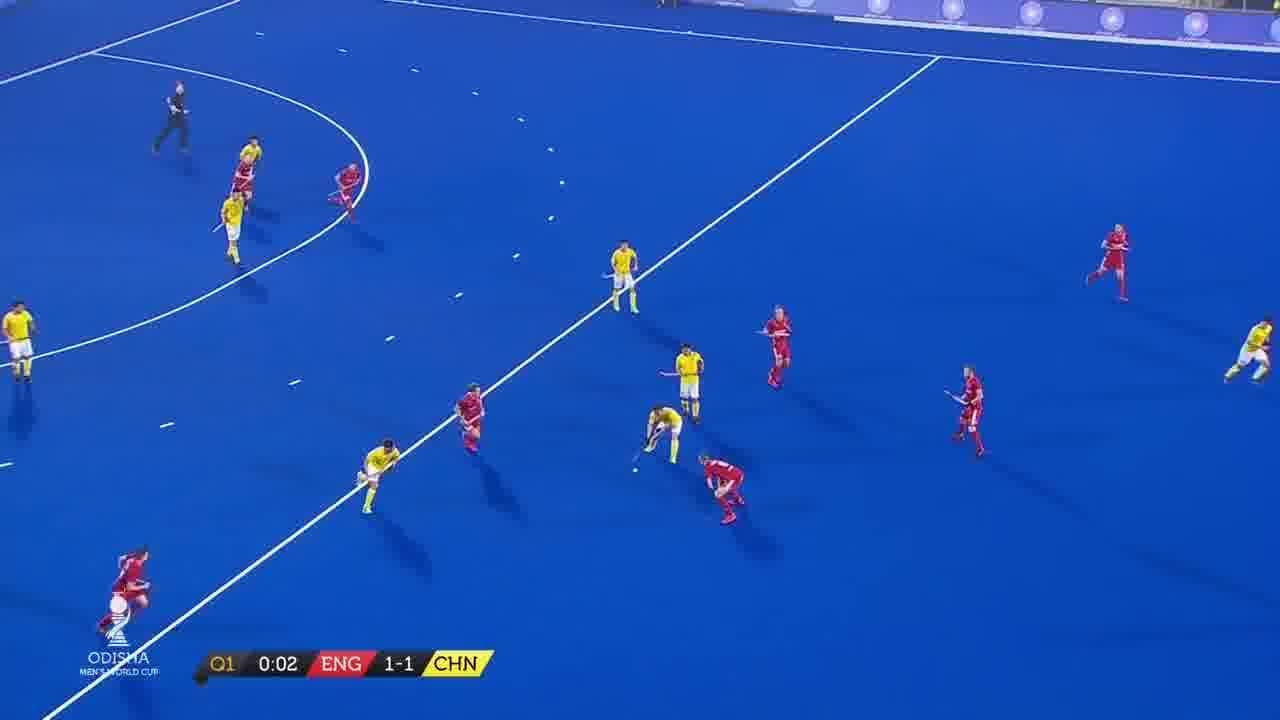ball: (626, 458, 643, 485)
